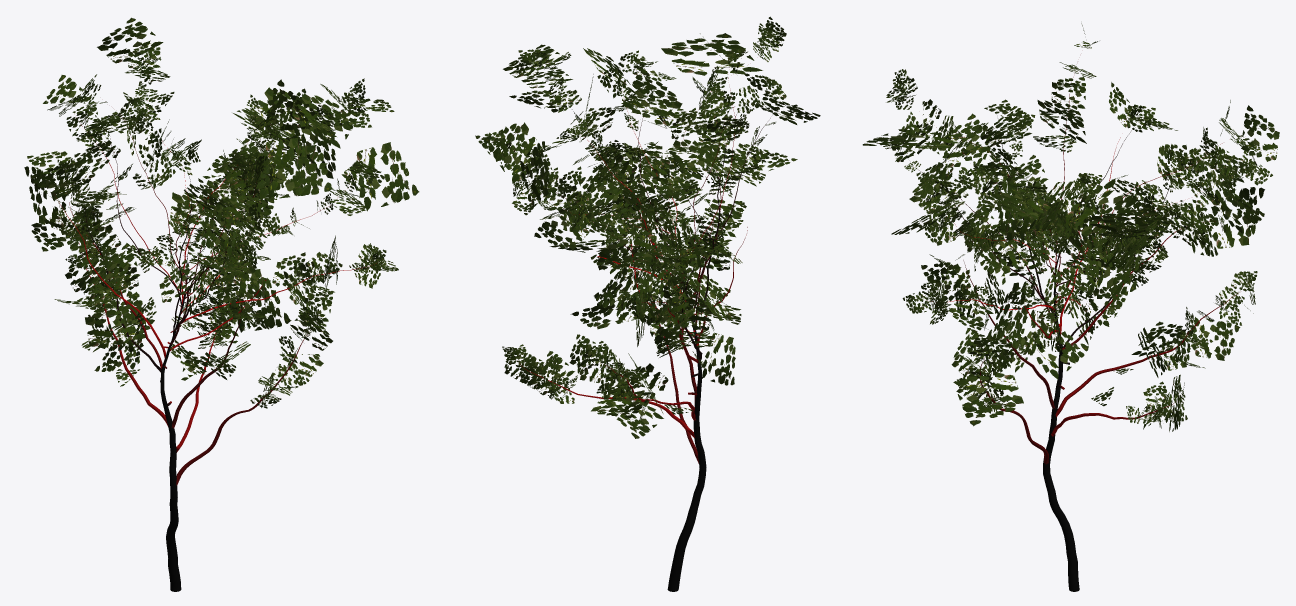
3 renders of one model, left to right at view 1: azimuth 30°, elevation 25°; view 2: azimuth 150°, elevation 25°; view 3: azimuth 270°, elevation 25°, orthographic.
Visible parts, largest first — view 1: Tree25; view 2: Tree25; view 3: Tree25.
Boxes of the visible parts, x1=… form: Tree25: x1=24, y1=17, x2=419, y2=591; Tree25: x1=475, y1=16, x2=820, y2=591; Tree25: x1=862, y1=23, x2=1279, y2=591.
Bounding box in the file's own units: 6.6 × 11 × 8.
